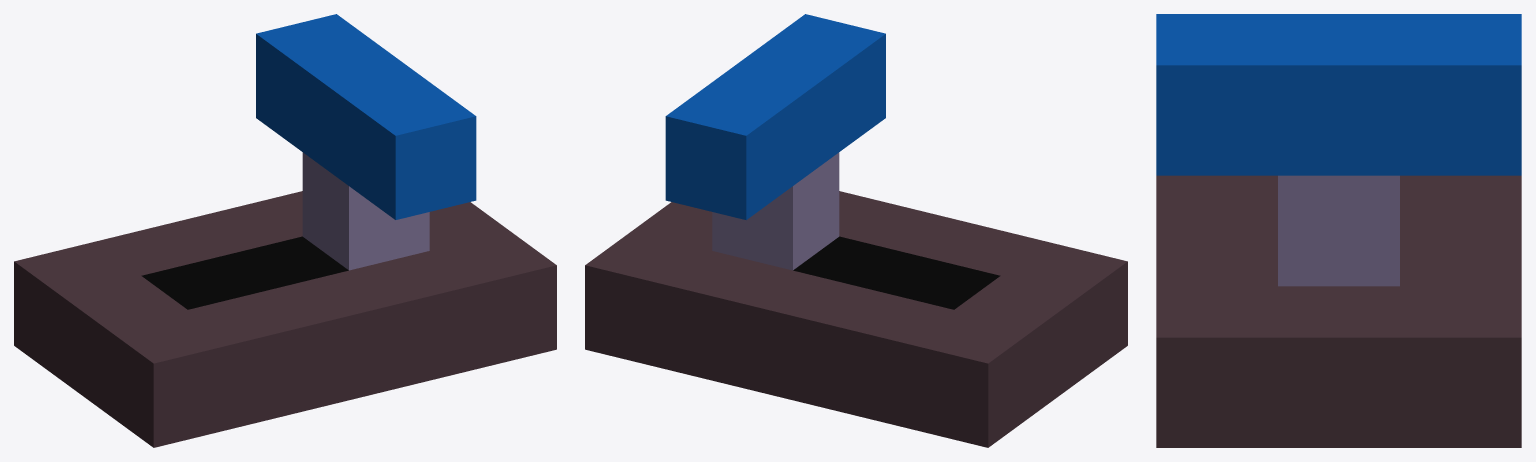
The model's file is lever_b_a_blue_on.obj.
3 renders of one model, left to right at view 1: azimuth 30°, elevation 25°; view 2: azimuth 150°, elevation 25°; view 3: azimuth 270°, elevation 25°, orthographic. The views are drawn at different scales.
Bounding box in the file's own units: 0.5 × 0.3 × 0.3.
Materials: 1 (1 with a texture image).
